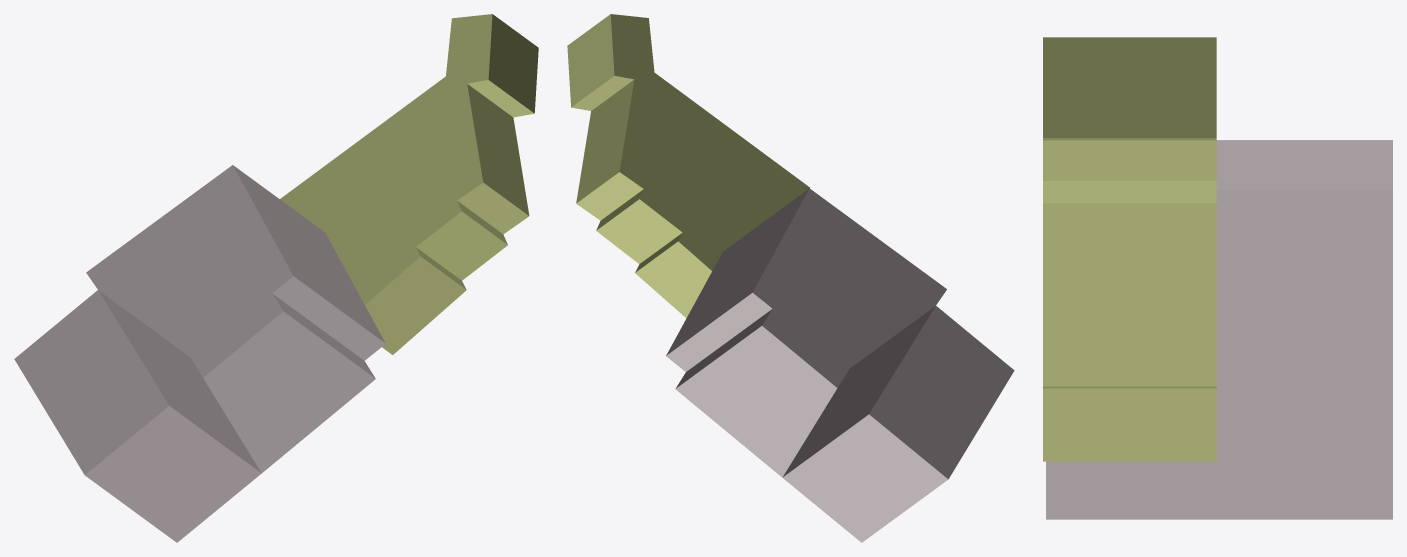
3 views of the same model, side by side, from view 1: azimuth 30°, elevation 25°; view 2: azimuth 150°, elevation 25°; view 3: azimuth 270°, elevation 25° (orthographic). The views are drawn at different scales.
Visible parts, largest first — view 1: 0_0_1_1_2_3_1_0_0; view 2: 0_0_1_1_2_3_1_0_0; view 3: 0_0_1_1_2_3_1_0_0.
Boxes of the visible parts, x1,y1,x2,y2 form: 0_0_1_1_2_3_1_0_0: (14,14,538,542); 0_0_1_1_2_3_1_0_0: (567,14,1014,542); 0_0_1_1_2_3_1_0_0: (1043,37,1392,519).
Bounding box in the file's own units: 32.33 × 29.6 × 12.1.
